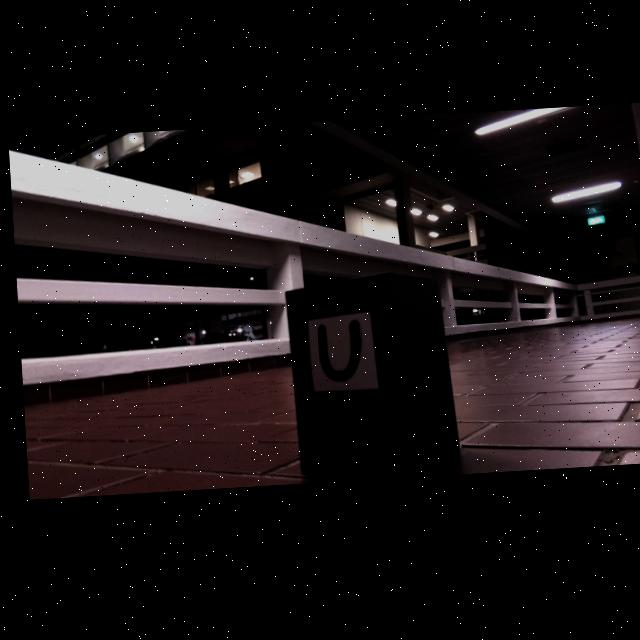U: (314, 324, 357, 386)
